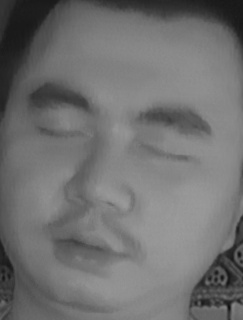blink: (138, 132, 198, 169), (35, 111, 89, 151)
mouth: (41, 213, 127, 276)
